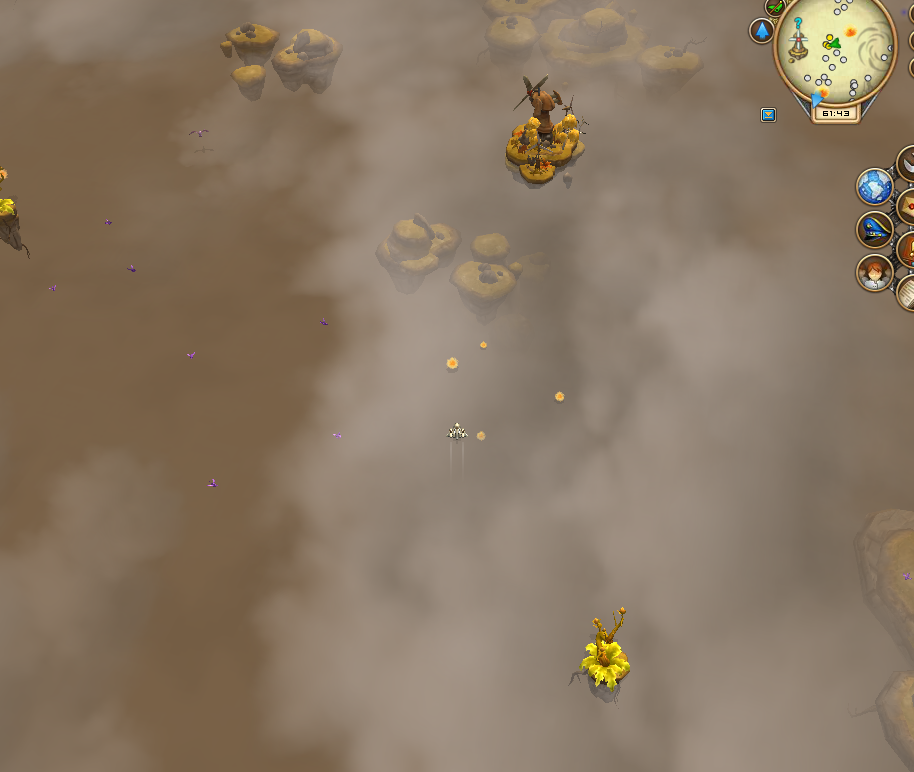dandelion-empty: (570, 599, 635, 699)
dandelion-full: (0, 159, 31, 242)
fluff: (445, 354, 460, 374), (553, 389, 567, 405), (474, 428, 487, 442), (478, 339, 490, 352)
